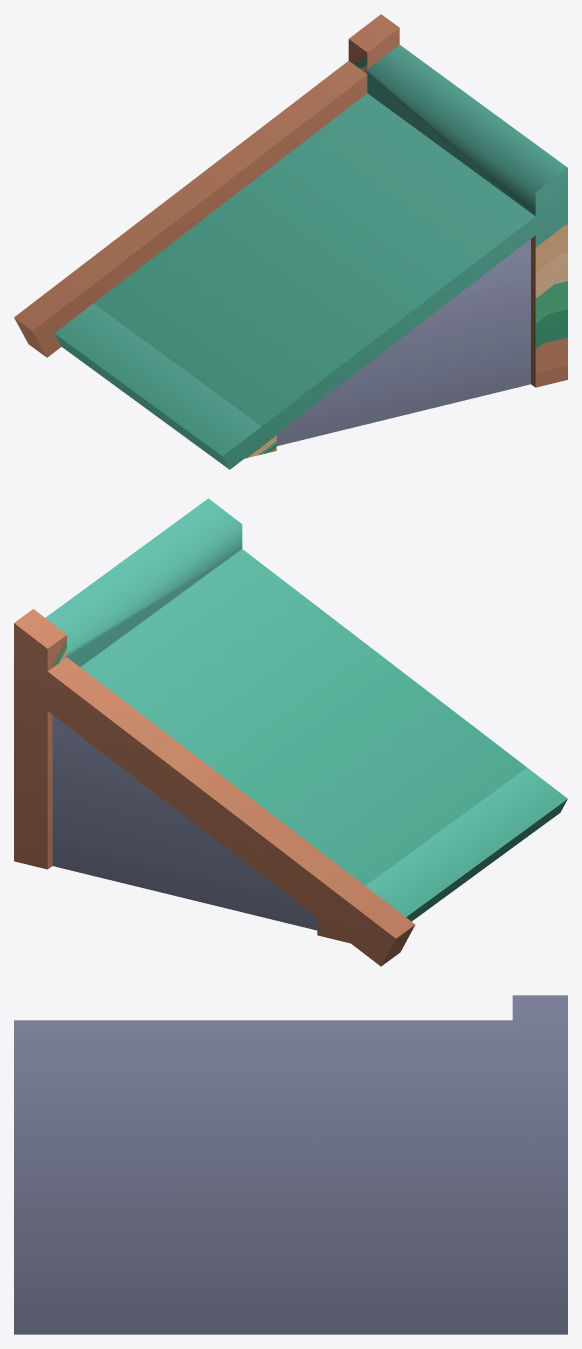
Rendered from kenney-fantasy-town-roof-left.glb.
3 renders of one model, top to bottom at view 1: azimuth 30°, elevation 25°; view 2: azimuth 150°, elevation 25°; view 3: azimuth 270°, elevation 25°, orthographic. The views are drawn at different scales.
Visible parts, largest first — view 1: roof-left; view 2: roof-left; view 3: roof-left.
Part boxes in pixels (x1,y1,x2,y2): roof-left: (14,14,567,469); roof-left: (14,498,567,966); roof-left: (14,995,567,1334).
Bounding box in the file's own units: 1.13 × 0.7206 × 1.
1 material, 1 textured.
